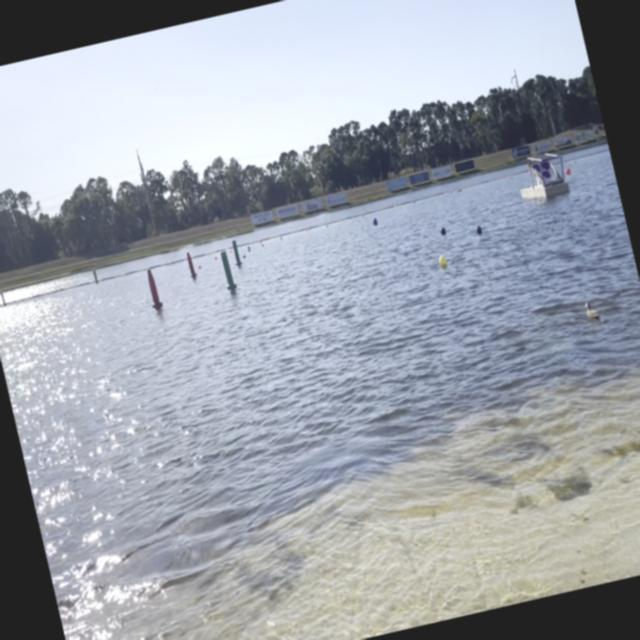buoy: (438, 256, 448, 268), (439, 226, 446, 235), (476, 225, 482, 235), (372, 218, 377, 225), (197, 264, 201, 270), (242, 254, 245, 258)
